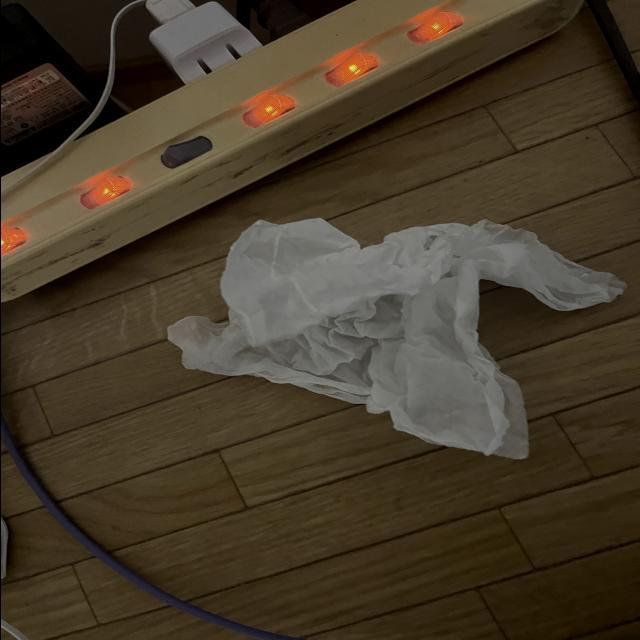Paper: (172, 179, 630, 473)
